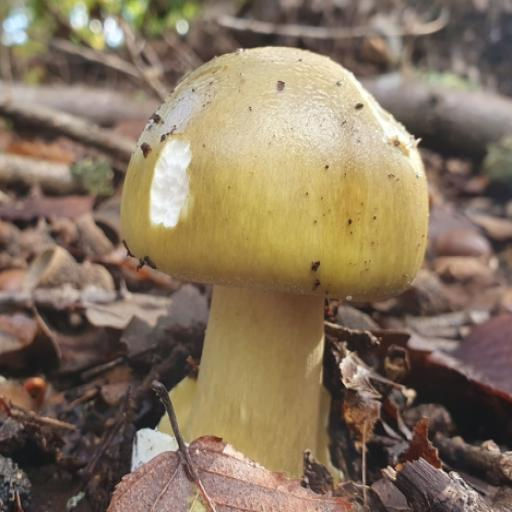mushroom: (26, 0, 487, 496)
